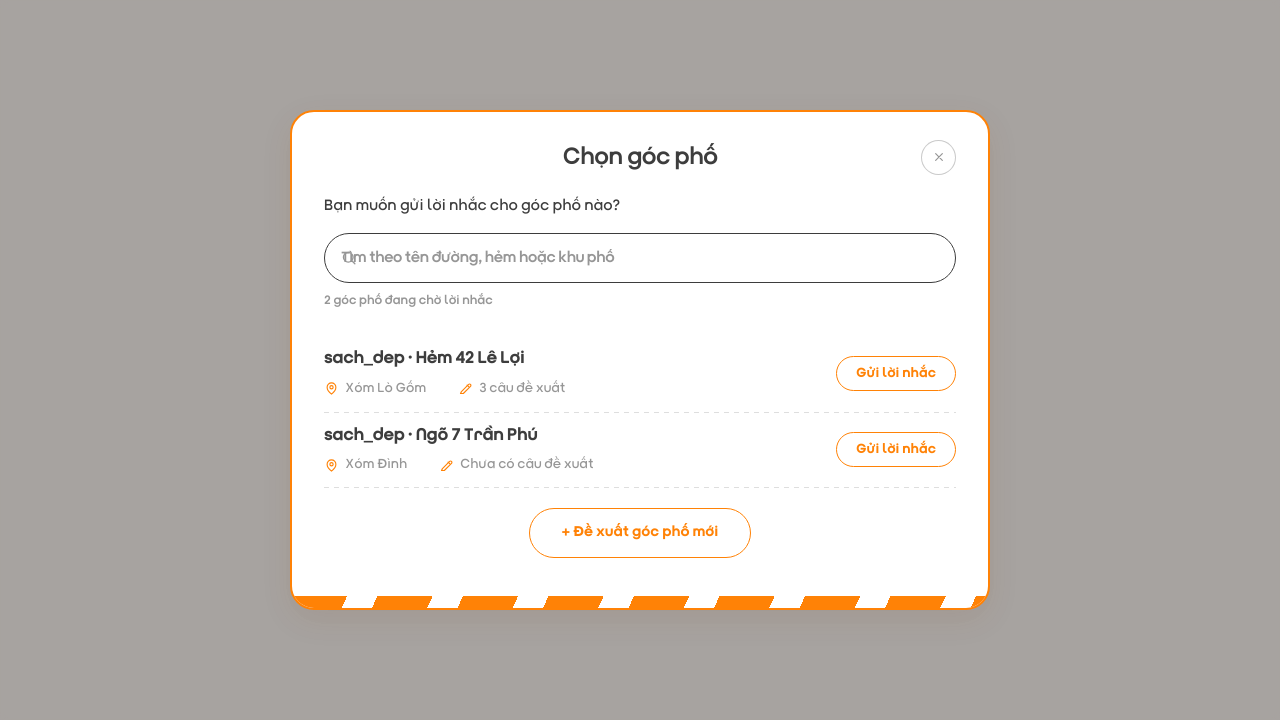
Test: SpotPickerModal — thiết kế tự dựng (chốt 5/9) › đếm số góc phố, đổi theo từ khoá
Expected: the text "2 góc phố đang chờ lời nhắc" is shown, [324,294,493,307]
In the field named "Tìm góc phố": (640, 258) [324,233,956,283], type "hem 42"
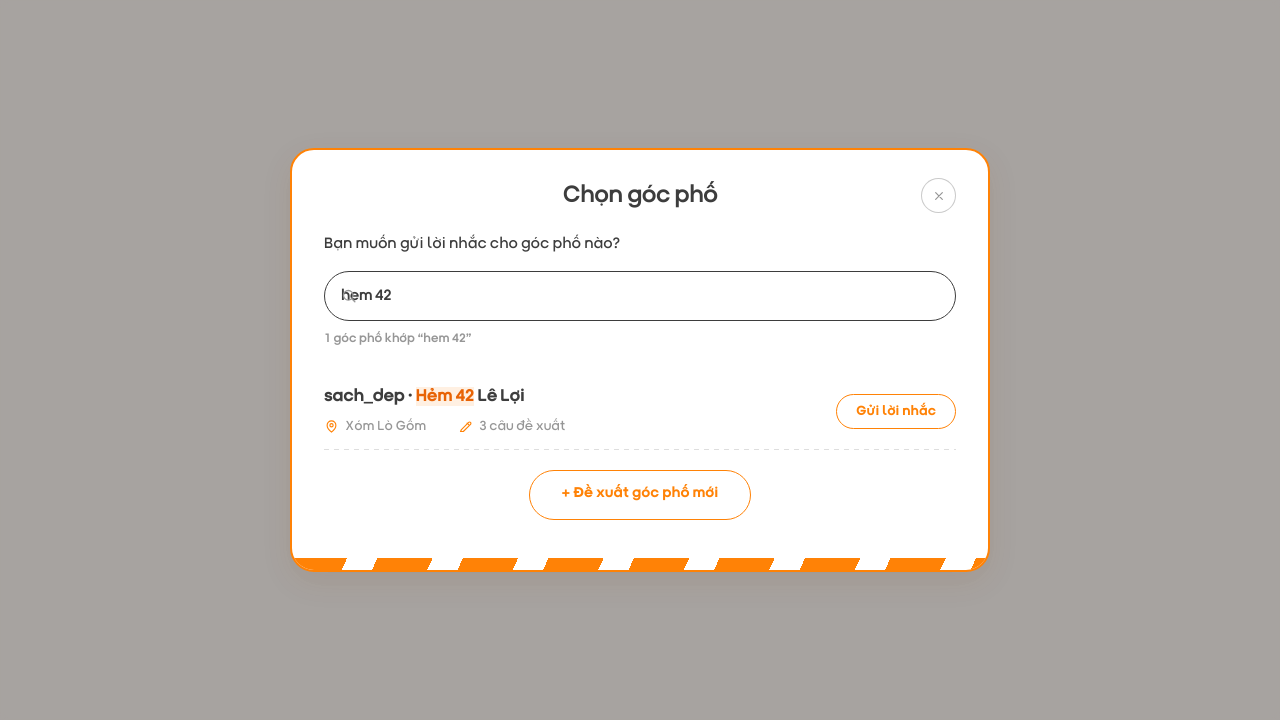
Expected: the text "1 góc phố khớp “hem 42”" is shown, [324,332,472,345]
